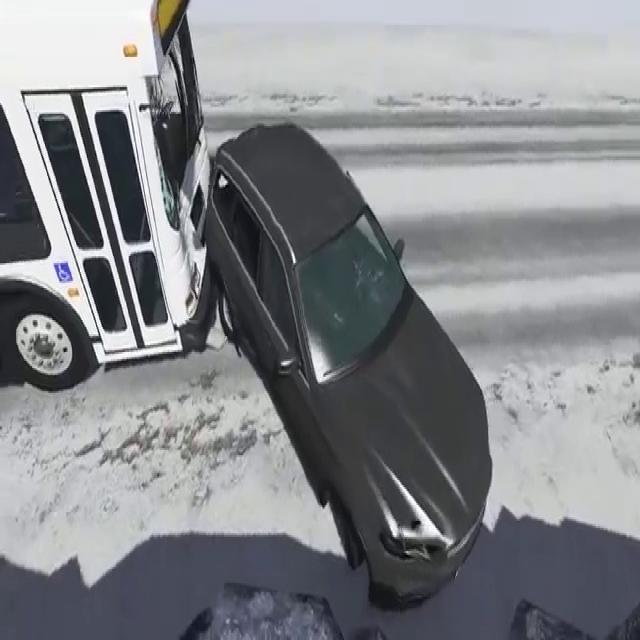moderate: (0, 0, 497, 619)
